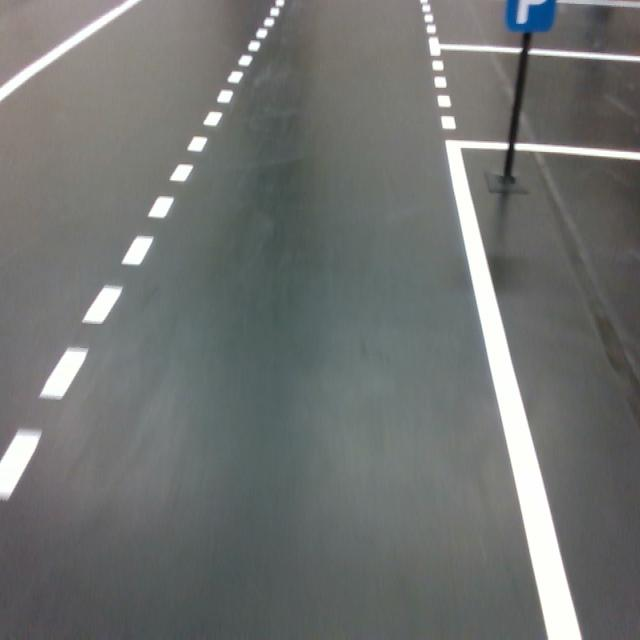parking-sign: (504, 0, 557, 33)
